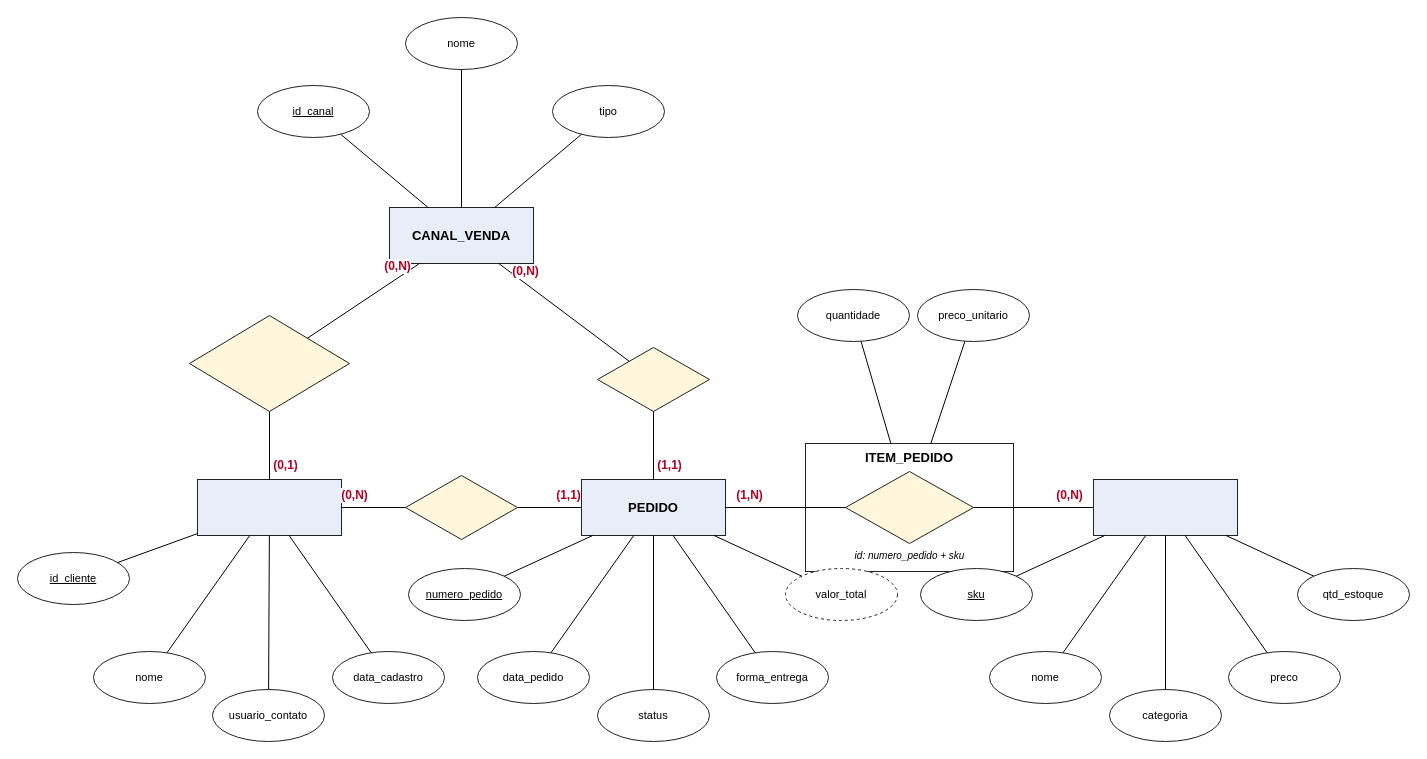
Image size: 1427x759. Some labels were removed from this diagram. The shapes that lost their labels are listed below. From the top down, each one's centre as x and y in pixels, then its label:
[269,363]: é contato preferido de
[653,379]: recebe
[269,507]: CLIENTE
[461,507]: faz
[909,507]: contém
[1165,507]: PRODUTO
